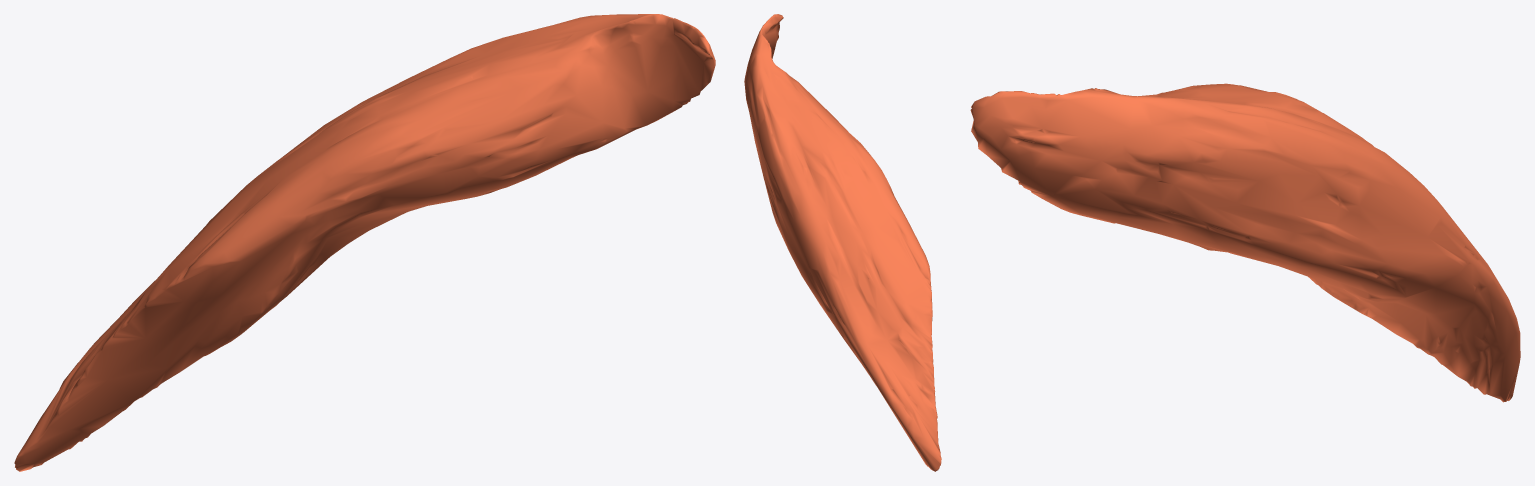
File: Teres_minor_left.glb
3 views of the same model, side by side, from view 1: azimuth 30°, elevation 25°; view 2: azimuth 150°, elevation 25°; view 3: azimuth 270°, elevation 25° (orthographic). The views are drawn at different scales.
Parts seen in each view (by area): view 1: Teres_minor_muscle.l_Generated_Mesh_From_X3D.158; view 2: Teres_minor_muscle.l_Generated_Mesh_From_X3D.158; view 3: Teres_minor_muscle.l_Generated_Mesh_From_X3D.158.
Boxes of the visible parts, x1,y1,x2,y2 form: Teres_minor_muscle.l_Generated_Mesh_From_X3D.158: [14, 14, 715, 471]; Teres_minor_muscle.l_Generated_Mesh_From_X3D.158: [744, 14, 941, 471]; Teres_minor_muscle.l_Generated_Mesh_From_X3D.158: [970, 83, 1520, 402].
Size of the model in its own units: 0.0961 by 0.0895 by 0.0759.
